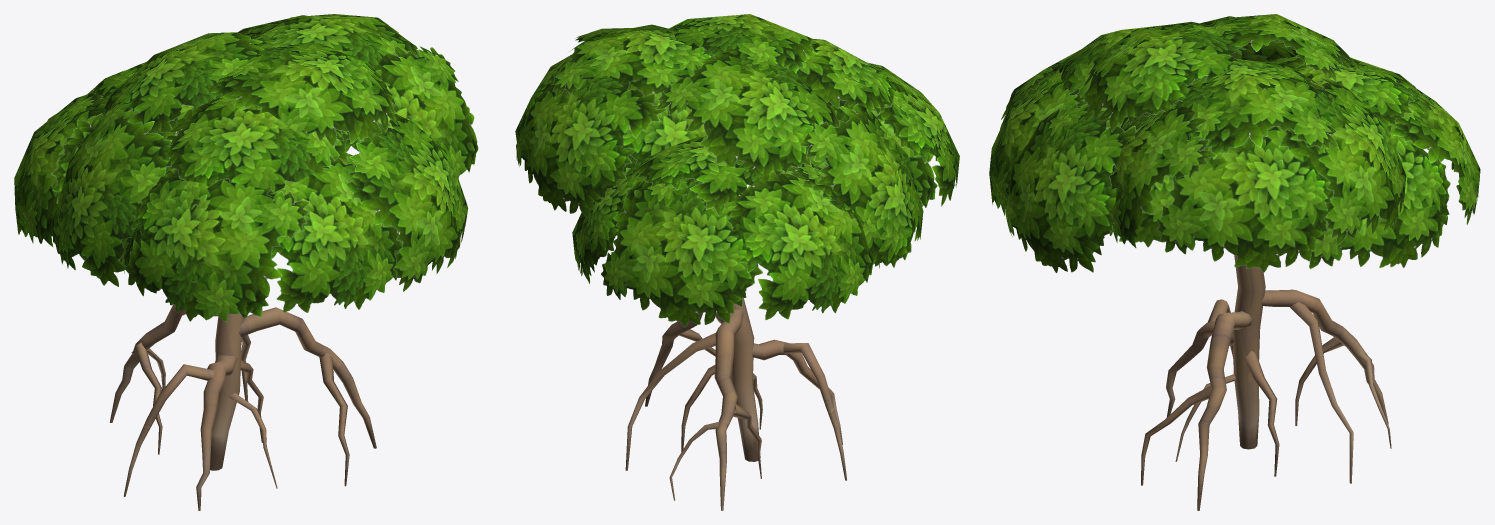
File: SM_Mangrover.fbx
3 views of the same model, side by side, from view 1: azimuth 30°, elevation 25°; view 2: azimuth 150°, elevation 25°; view 3: azimuth 270°, elevation 25° (orthographic). The views are drawn at different scales.
Parts seen in each view (by area): view 1: SM_Mangroves; view 2: SM_Mangroves; view 3: SM_Mangroves.
Boxes of the visible parts, x1,y1,x2,y2 form: SM_Mangroves: (14,14,478,510); SM_Mangroves: (515,14,959,510); SM_Mangroves: (989,14,1480,510).
Bounding box in the file's own units: 495 × 516 × 530.
